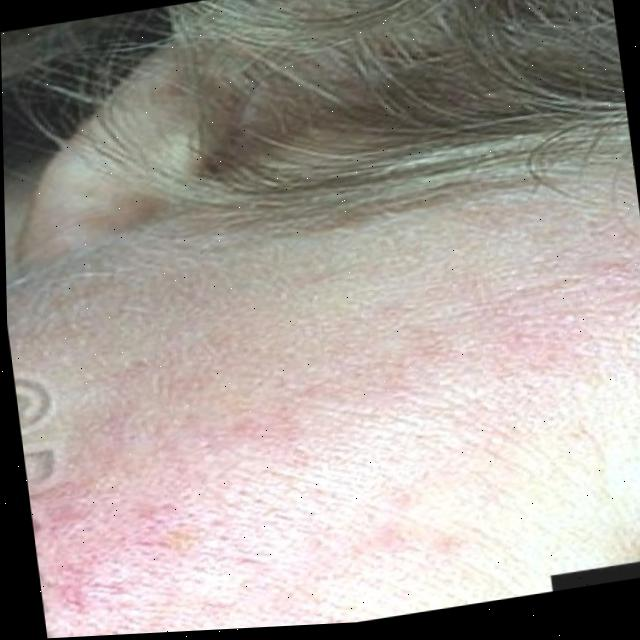Rosacea: (28, 257, 640, 617)
